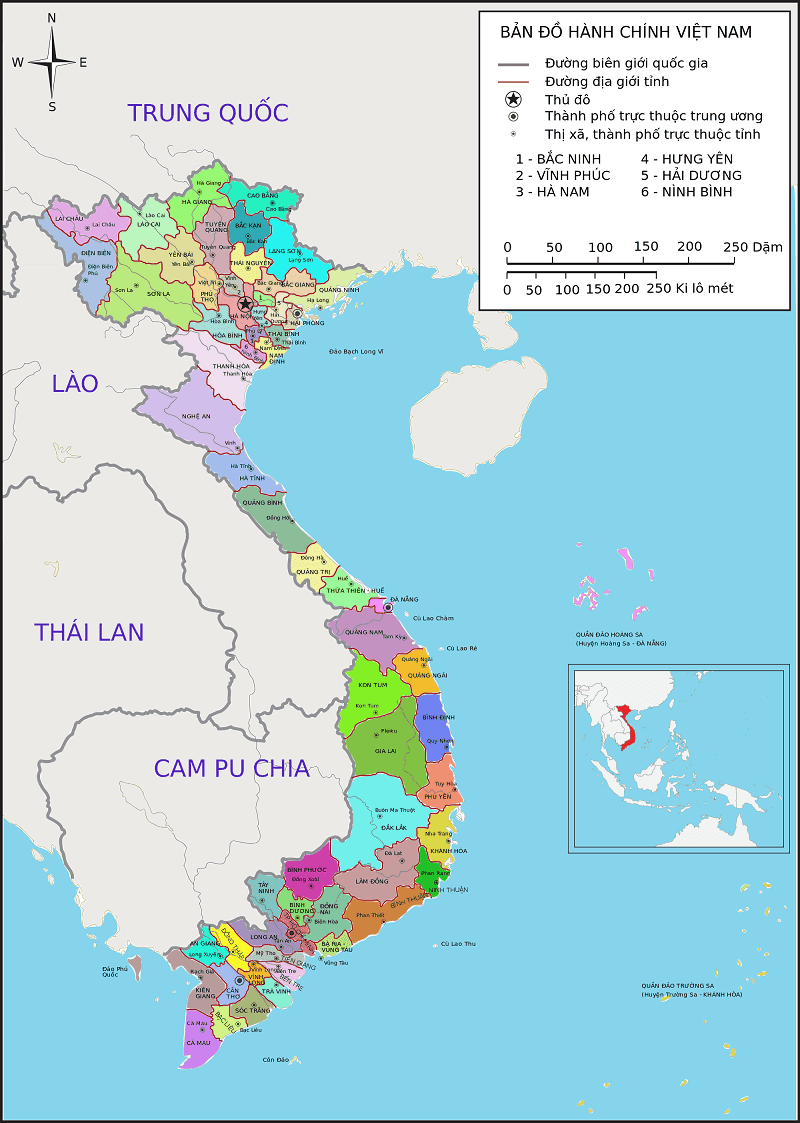Island: (571, 859, 796, 1119), (564, 543, 683, 656)
